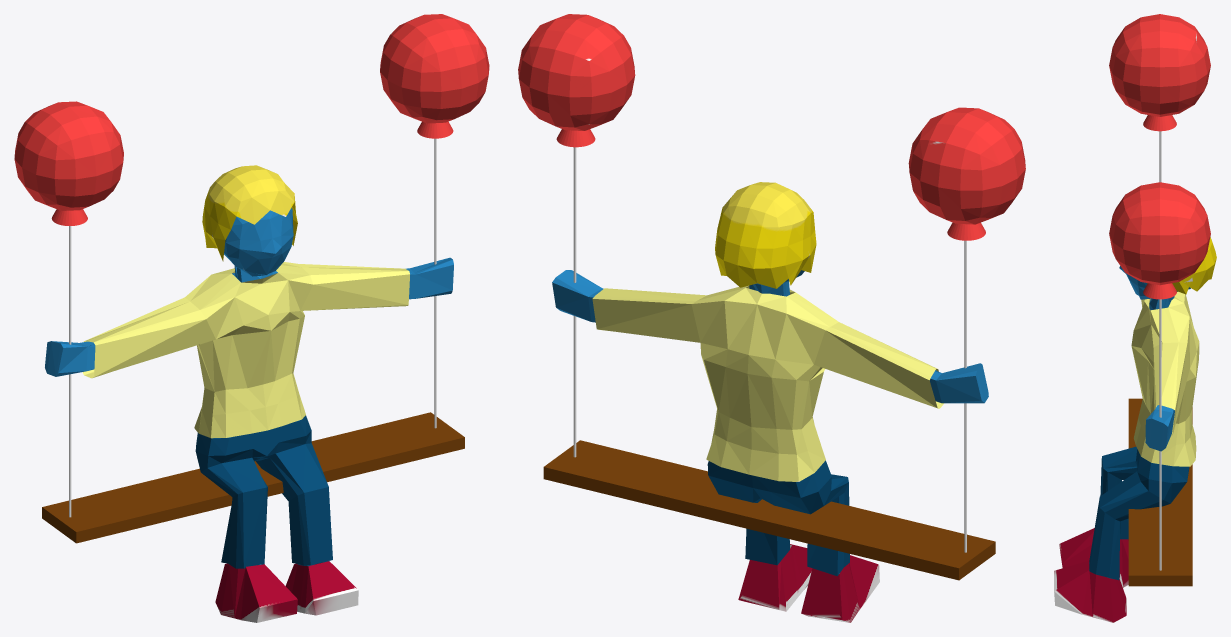
The model's file is player_life2.obj.
The picture shows the model from 3 angles, left to right: view 1: azimuth 30°, elevation 25°; view 2: azimuth 150°, elevation 25°; view 3: azimuth 270°, elevation 25°; orthographic projection. The views are drawn at different scales.
Visible parts, largest first — view 1: 風船.013, 風船.004, 風船.014, huusenn, huusenn2, 風船.012, 風船.016, 風船.006, 風船.015, 風船.009, 風船.011; view 2: 風船.013, 風船.004, huusenn2, huusenn, 風船.012, 風船.014, 風船.016, 風船.015, 風船.009, 風船.011; view 3: huusenn2, huusenn, 風船.013, 風船.014, 風船.004, 風船.015, 風船.016, 風船.009, 風船.012, 風船.006.
Part boxes in pixels (<box>): 風船.013: <box>82,262,409,438</box>; 風船.004: <box>42,412,464,543</box>; 風船.014: <box>195,415,332,568</box>; huusenn: <box>14,101,123,517</box>; huusenn2: <box>380,14,489,428</box>; 風船.012: <box>202,165,297,261</box>; 風船.016: <box>215,563,297,622</box>; 風船.006: <box>224,208,293,276</box>; 風船.015: <box>285,561,358,615</box>; 風船.009: <box>213,257,453,566</box>; 風船.011: <box>45,341,95,376</box>; 風船.013: <box>592,285,943,481</box>; 風船.004: <box>543,440,995,580</box>; huusenn2: <box>518,14,635,457</box>; huusenn: <box>908,107,1025,552</box>; 風船.012: <box>715,182,816,288</box>; 風船.014: <box>707,460,849,576</box>; 風船.016: <box>801,555,879,622</box>; 風船.015: <box>738,544,812,611</box>; 風船.009: <box>552,270,789,322</box>; 風船.011: <box>929,363,988,403</box>; huusenn2: <box>1109,182,1210,570</box>; huusenn: <box>1109,14,1210,182</box>; 風船.013: <box>1131,291,1199,466</box>; 風船.014: <box>1089,446,1189,580</box>; 風船.004: <box>1128,398,1192,586</box>; 風船.015: <box>1054,560,1126,622</box>; 風船.016: <box>1059,528,1128,587</box>; 風船.009: <box>1108,296,1174,578</box>; 風船.012: <box>1147,237,1216,294</box>; 風船.006: <box>1119,266,1190,299</box>.
Bounding box in the file's own units: 4.69 × 5.19 × 1.54.
1 material, 1 textured.
